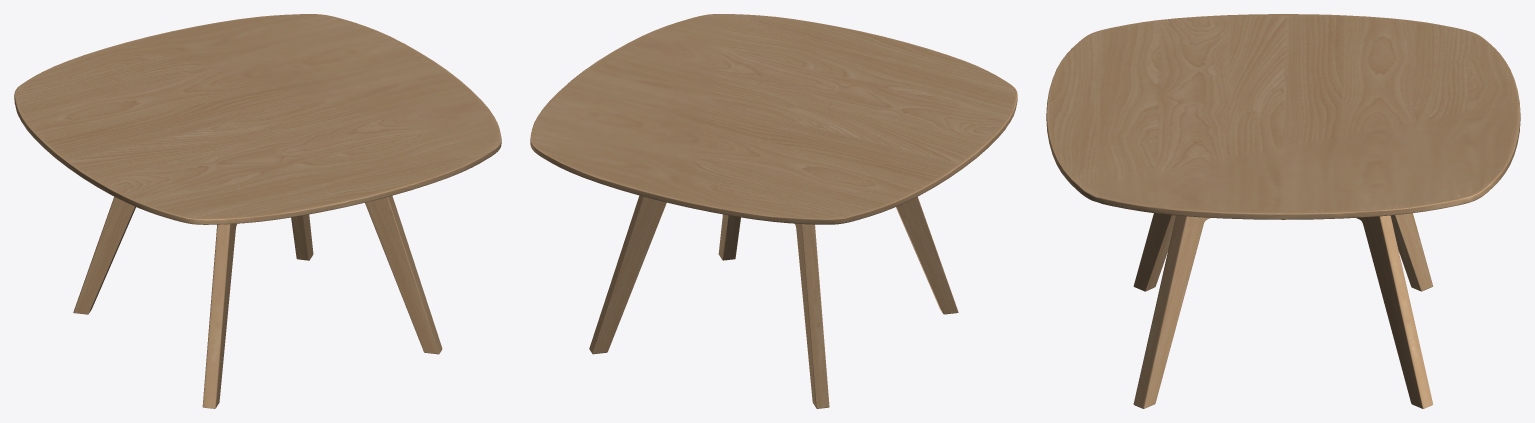
The model's file is Table9.obj.
3 views of the same model, side by side, from view 1: azimuth 30°, elevation 25°; view 2: azimuth 150°, elevation 25°; view 3: azimuth 270°, elevation 25° (orthographic). The views are drawn at different scales.
Parts seen in each view (by area): view 1: solid_001; view 2: solid_001; view 3: solid_001.
Boxes of the visible parts, <box> form: solid_001: <box>14,14,501,408</box>; solid_001: <box>530,14,1017,408</box>; solid_001: <box>1046,14,1520,408</box>.
Size of the model in its own units: 1.92 by 1.04 by 1.92.
Materials: 1 (1 with a texture image).
